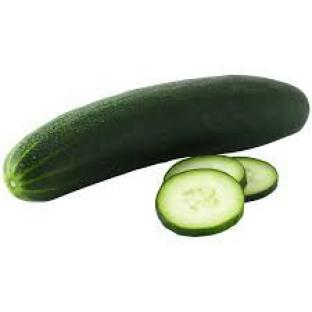Cucumber: (5, 77, 309, 201), (157, 170, 244, 235), (164, 156, 246, 187), (236, 157, 278, 201)
